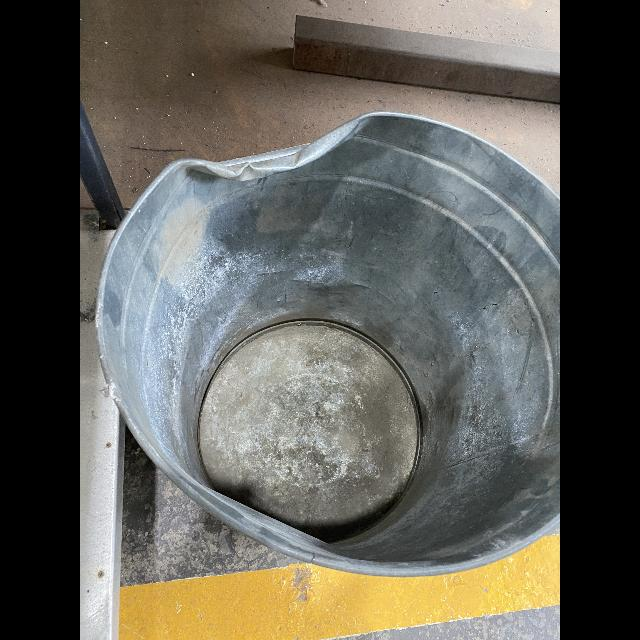Aluminium: (80, 210, 125, 640)
Ferrous Metal: (294, 16, 560, 104), (80, 100, 126, 230)
Galvanized Steel: (97, 113, 560, 576)
